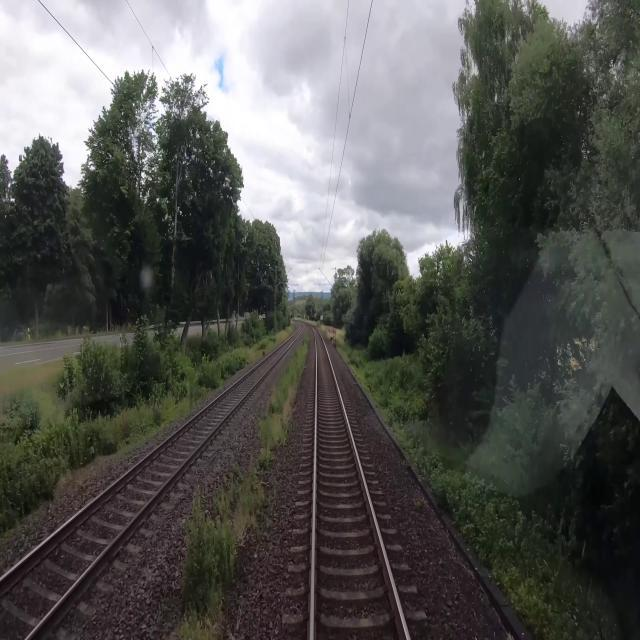Plant: (171, 463, 266, 639), (256, 327, 310, 467)
